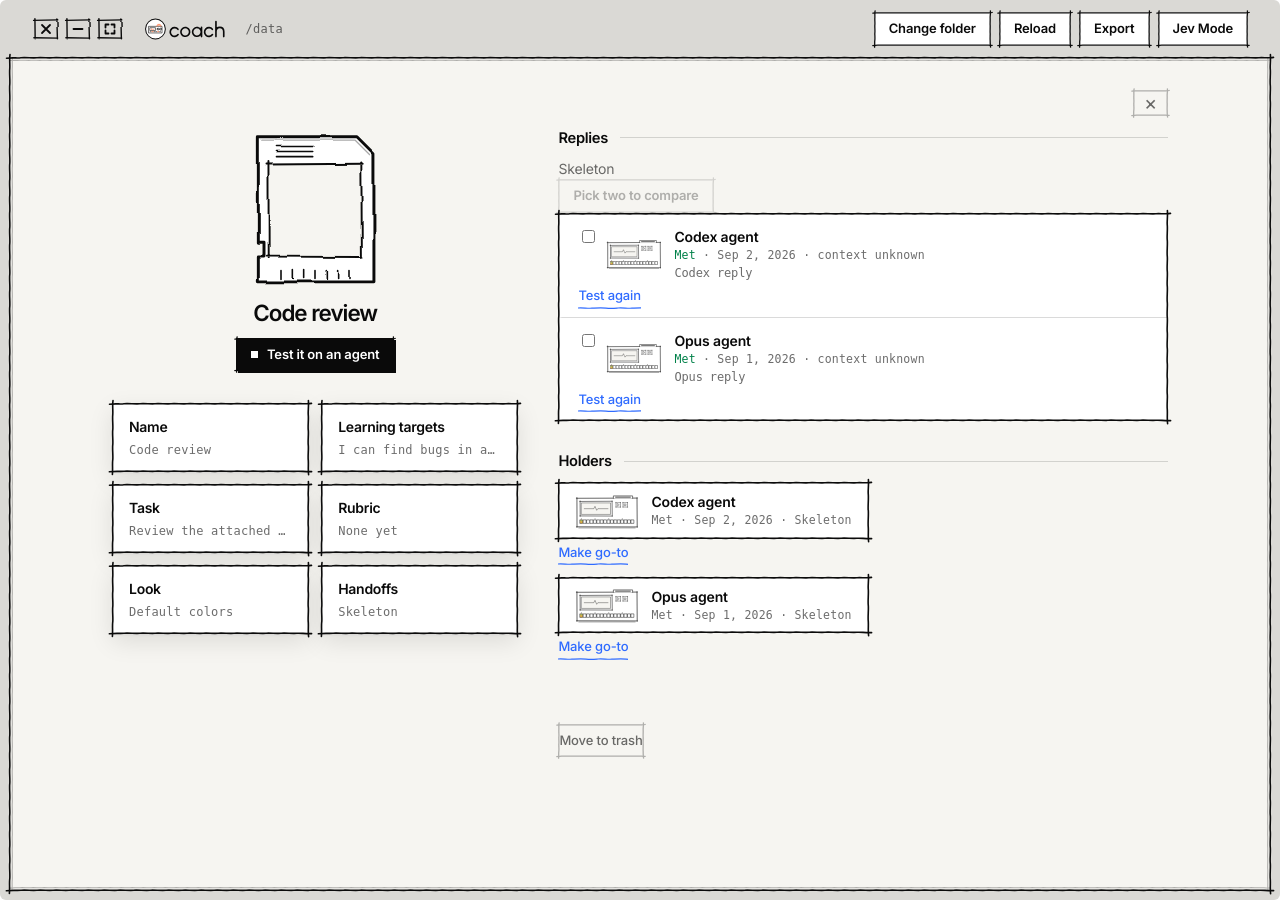
Test: BadgeDetail › Covers R16. Closing a reply comes back to the badge with its agent lit, its take focused and the picks kept
The width and height of the screenshot is (1280, 900).
Click the checkbox named "Pick Opus agent".
click(589, 340)  # box [582,334,595,347]
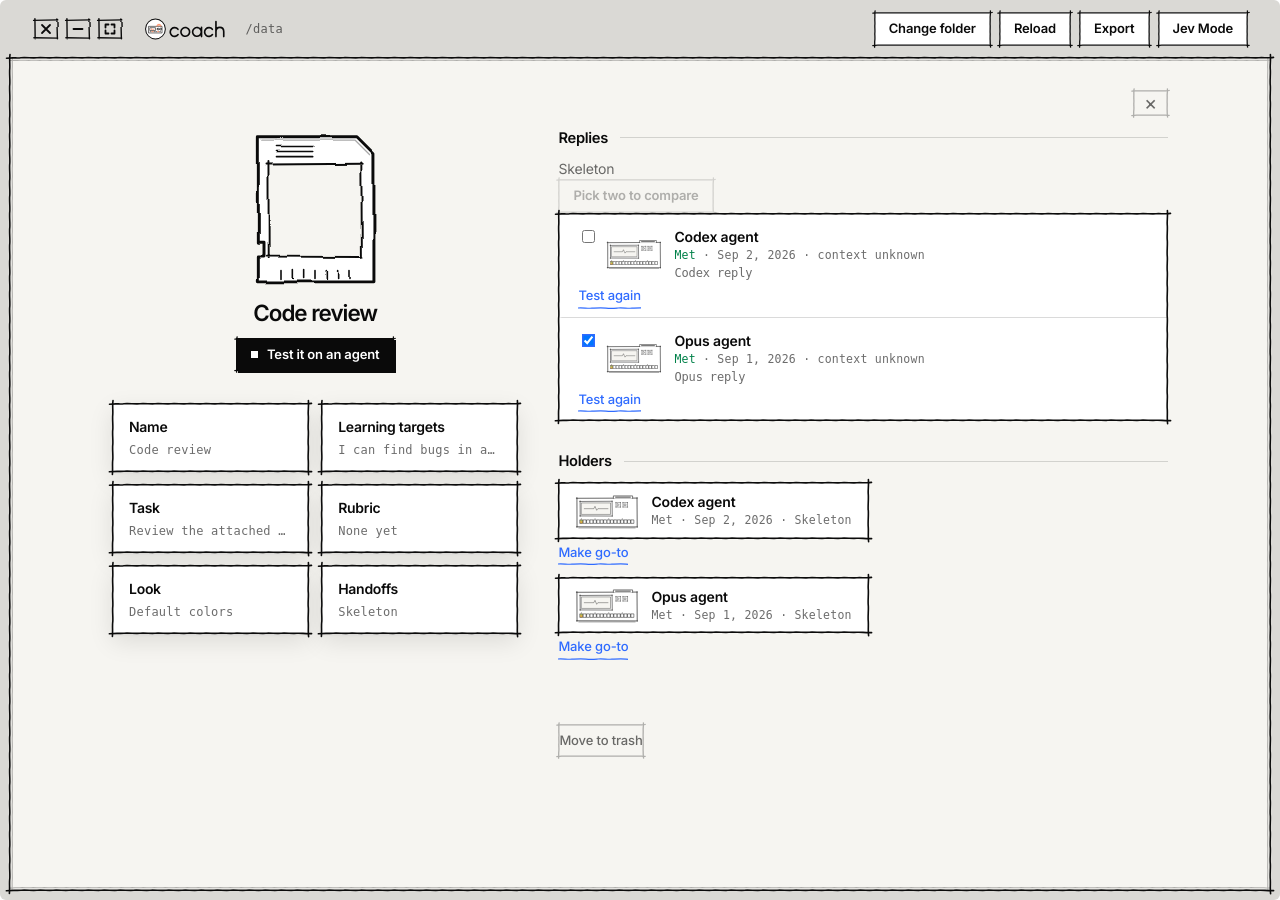
Click the 1st button with class "take-head".
click(879, 254)  # box [606,222,1151,286]
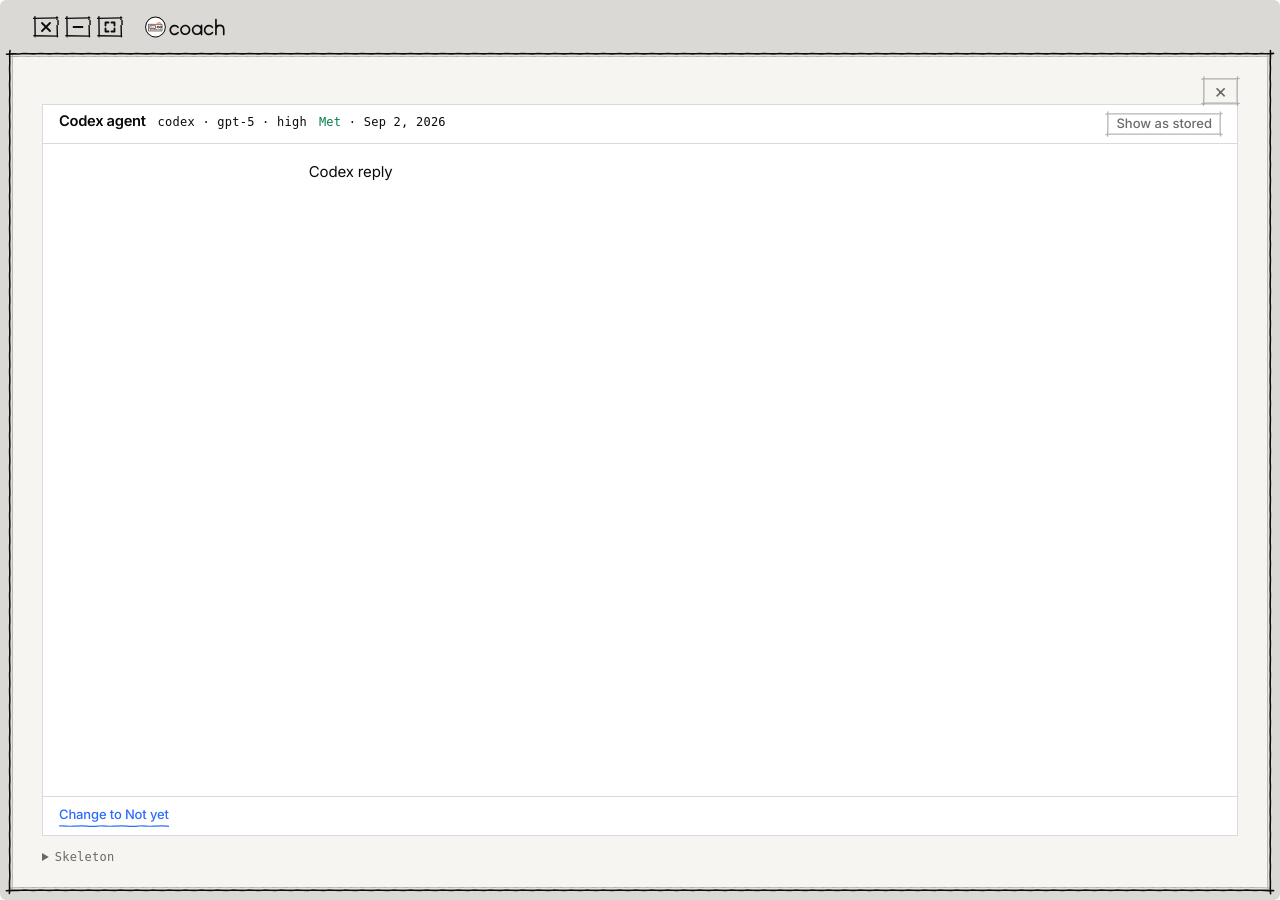
Expected: the heading "Codex agent" is shown, [59,113,146,130]
Click the button named "Close".
click(1220, 91)  # box [1203,78,1238,104]
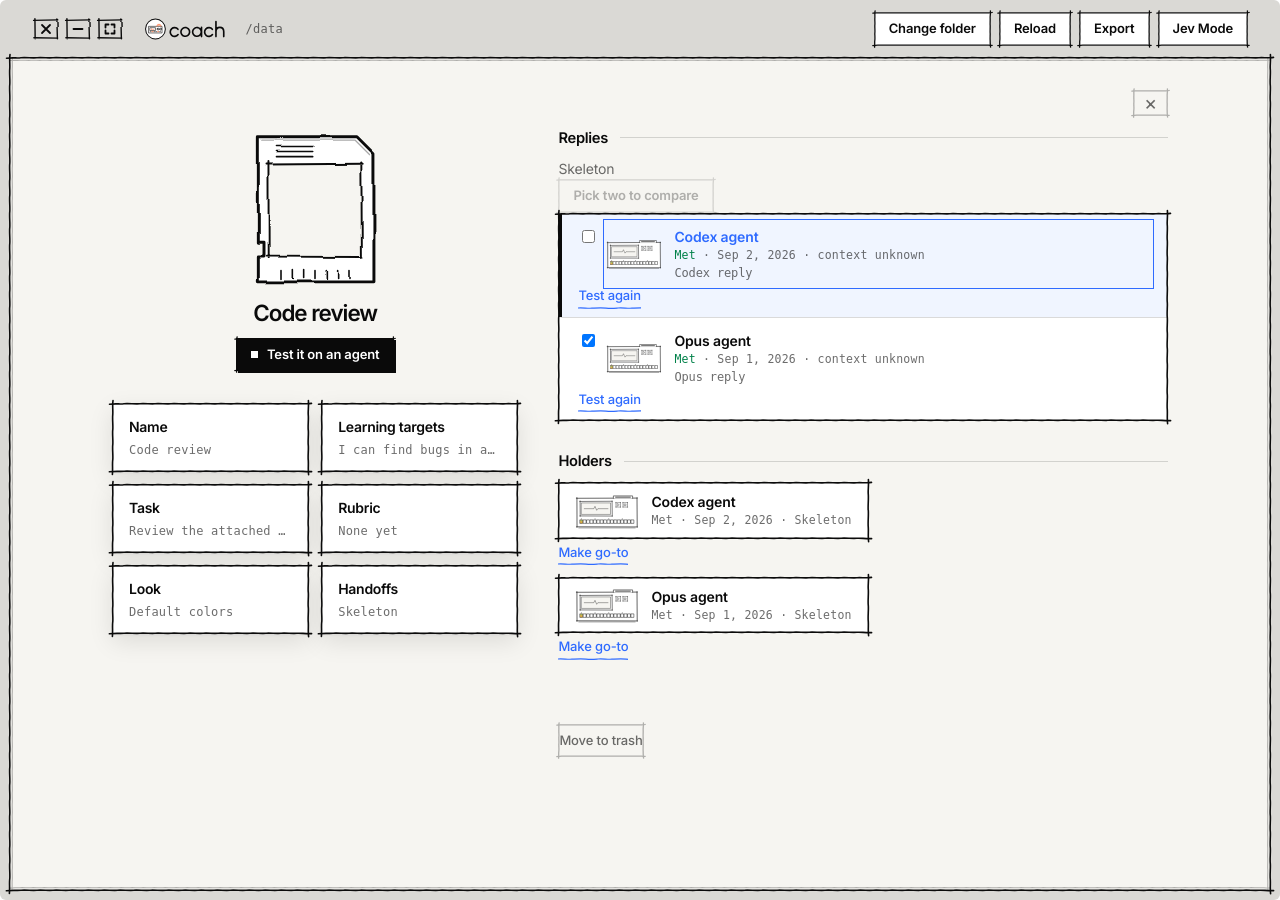
Now the heading "Code review" is shown, box [253,300,377,326]
Now the checkbox named "Pick Opus agent" is checked, box [582,334,595,347]
Now the checkbox named "Pick Codex agent" is not checked, box [582,230,595,243]
